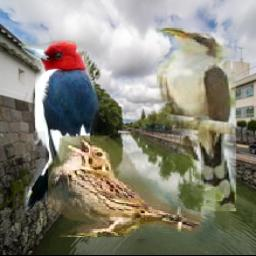Cuckoo: (157, 28, 236, 211)
Sparrow: (48, 135, 202, 237)
Woodpecker: (22, 34, 101, 217)
